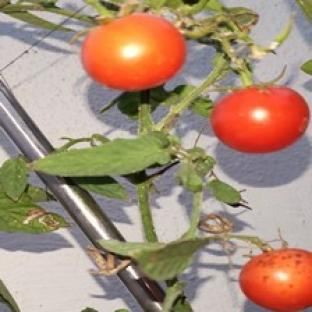Tomato: (81, 13, 186, 91), (211, 87, 309, 153), (240, 248, 311, 311)
